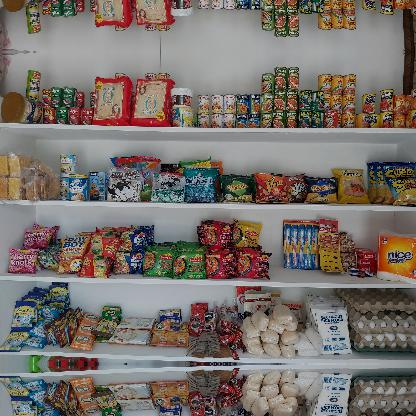Lady-s-Choice: (1, 91, 43, 123), (1, 0, 44, 14)
